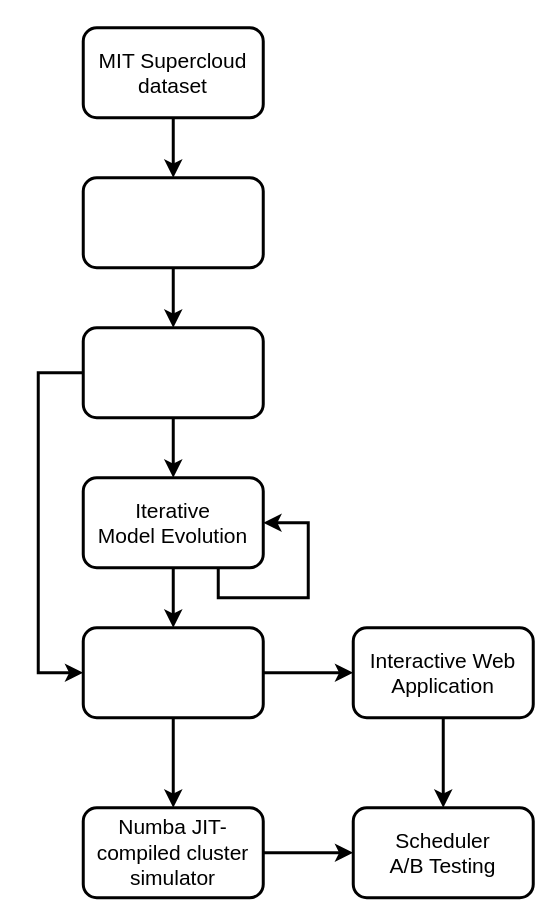
The diagram is 560 pixels wide and 924 high, and some of its shapes have lost their labels. Each missing label, with the box of its shape:
Data Preprocessing: (81, 176, 264, 268)
ThermalODE Model: (81, 626, 264, 718)
Thermodynamic Priors Calculation: (81, 326, 264, 418)
